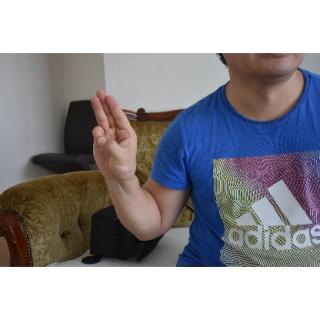THA: (86, 85, 142, 185)
